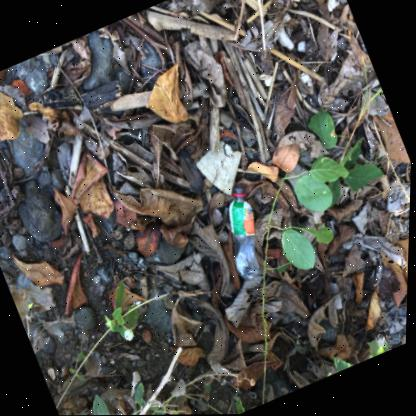Plastic: (229, 185, 260, 278)
Waste: (195, 140, 241, 195), (326, 0, 338, 11), (296, 40, 305, 52), (330, 51, 336, 61)
